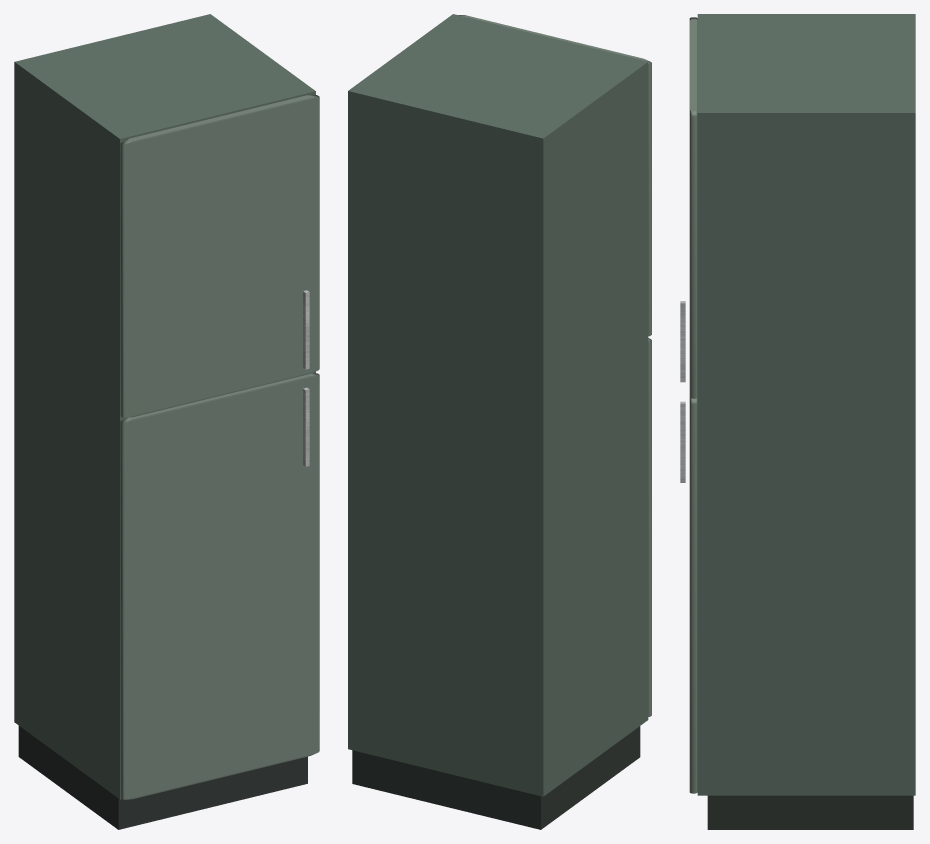
File: kitchen_tall_cabinet.glb
3 renders of one model, left to right at view 1: azimuth 30°, elevation 25°; view 2: azimuth 150°, elevation 25°; view 3: azimuth 270°, elevation 25°, orthographic. The views are drawn at different scales.
Parts seen in each view (by area): view 1: kitchen_tall_cabinet; view 2: kitchen_tall_cabinet; view 3: kitchen_tall_cabinet.
Boxes of the visible parts, x1,y1,x2,y2 form: kitchen_tall_cabinet: (14, 14, 319, 829); kitchen_tall_cabinet: (348, 14, 651, 829); kitchen_tall_cabinet: (680, 14, 915, 829).
Bounding box in the file's own units: 0.594 × 2 × 0.594.
Materials: 2 (1 with a texture image).
